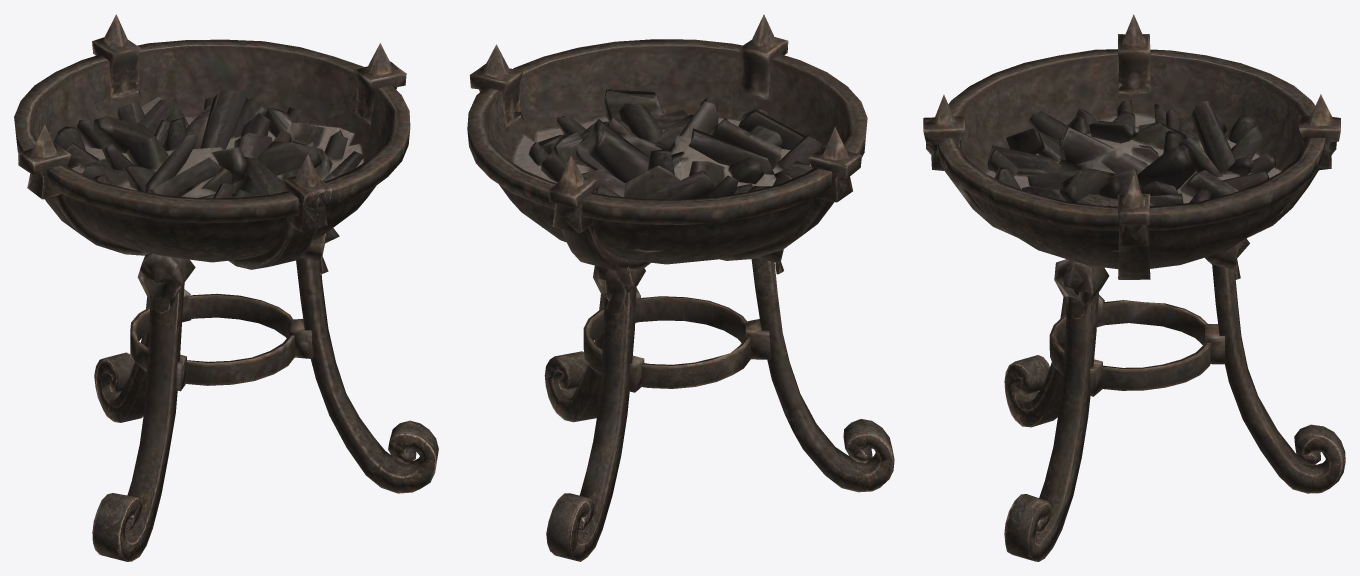
Rendered from p_brazier.glb.
3 renders of one model, left to right at view 1: azimuth 30°, elevation 25°; view 2: azimuth 150°, elevation 25°; view 3: azimuth 270°, elevation 25°, orthographic. The views are drawn at different scales.
Parts seen in each view (by area): view 1: p_brazier; view 2: p_brazier; view 3: p_brazier.
Boxes of the visible parts, x1,y1,x2,y2 form: p_brazier: (14, 14, 438, 561); p_brazier: (467, 14, 894, 561); p_brazier: (923, 14, 1345, 561).
Bounding box in the file's own units: 1.02 × 1.05 × 1.02.
1 material, 1 textured.
